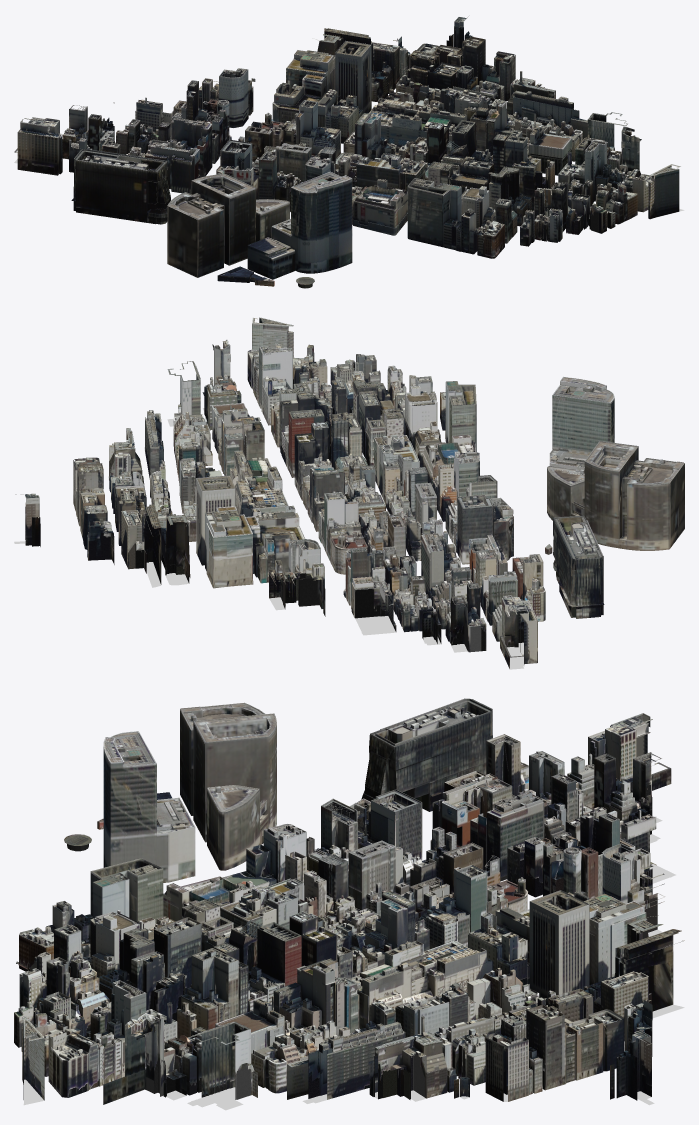
The model's file is 53394601c_bldg_6677.fbx.
3 views of the same model, one above another, from view 1: azimuth 30°, elevation 25°; view 2: azimuth 150°, elevation 25°; view 3: azimuth 270°, elevation 25° (orthographic). The views are drawn at different scales.
Parts seen in each view (by area): view 1: plateau_merged.236, plateau_merged.472, plateau_merged.300, plateau_merged.379, plateau_merged.095, plateau_merged.066, plateau_merged.423, plateau_merged.269, plateau_merged.127, plateau_merged.306, plateau_merged.144, plateau_merged.083 (+54 smaller); view 2: plateau_merged.236, plateau_merged.300, plateau_merged.472, plateau_merged.083, plateau_merged.095, plateau_merged.066, plateau_merged, plateau_merged.299, plateau_merged.379, plateau_merged.306, plateau_merged.269, plateau_merged.456 (+52 smaller); view 3: plateau_merged.236, plateau_merged.300, plateau_merged.472, plateau_merged.095, plateau_merged.269, plateau_merged.064, plateau_merged.379, plateau_merged.159, plateau_merged.083, plateau_merged.385, plateau_merged.466, plateau_merged.215 (+88 smaller).
Boxes of the visible parts, <box> form: plateau_merged.236: <box>167,174,289,277</box>; plateau_merged.472: <box>71,148,170,224</box>; plateau_merged.300: <box>271,171,352,273</box>; plateau_merged.379: <box>407,178,461,247</box>; plateau_merged.095: <box>368,98,466,147</box>; plateau_merged.066: <box>14,117,62,175</box>; plateau_merged.423: <box>353,179,407,235</box>; plateau_merged.269: <box>335,40,371,113</box>; plateau_merged.127: <box>247,237,295,279</box>; plateau_merged.306: <box>271,84,340,128</box>; plateau_merged.144: <box>648,164,680,219</box>; plateau_merged.083: <box>286,50,335,94</box>; plateau_merged.236: <box>547,441,684,550</box>; plateau_merged.300: <box>549,377,614,469</box>; plateau_merged.472: <box>553,515,604,618</box>; plateau_merged.083: <box>205,506,253,588</box>; plateau_merged.095: <box>230,450,288,516</box>; plateau_merged.066: <box>500,597,537,668</box>; plateau_merged: <box>14,408,524,669</box>; plateau_merged.299: <box>457,495,492,564</box>; plateau_merged.379: <box>445,381,476,451</box>; plateau_merged.306: <box>254,512,305,577</box>; plateau_merged.269: <box>196,475,235,565</box>; plateau_merged.456: <box>283,559,325,616</box>; plateau_merged.236: <box>180,702,276,870</box>; plateau_merged.300: <box>103,731,195,882</box>; plateau_merged.472: <box>361,698,492,811</box>; plateau_merged.095: <box>349,940,493,1028</box>; plateau_merged.269: <box>529,890,589,998</box>; plateau_merged.064: <box>308,1021,405,1099</box>; plateau_merged.379: <box>90,858,163,923</box>; plateau_merged.159: <box>103,1013,163,1104</box>; plateau_merged.083: <box>584,894,646,984</box>; plateau_merged.385: <box>486,791,544,881</box>; plateau_merged.466: <box>187,1021,250,1099</box>; plateau_merged.215: <box>615,929,684,1011</box>.
Size of the model in its own units: 62231 by 10852 by 52442.
479 materials, 479 textured.
